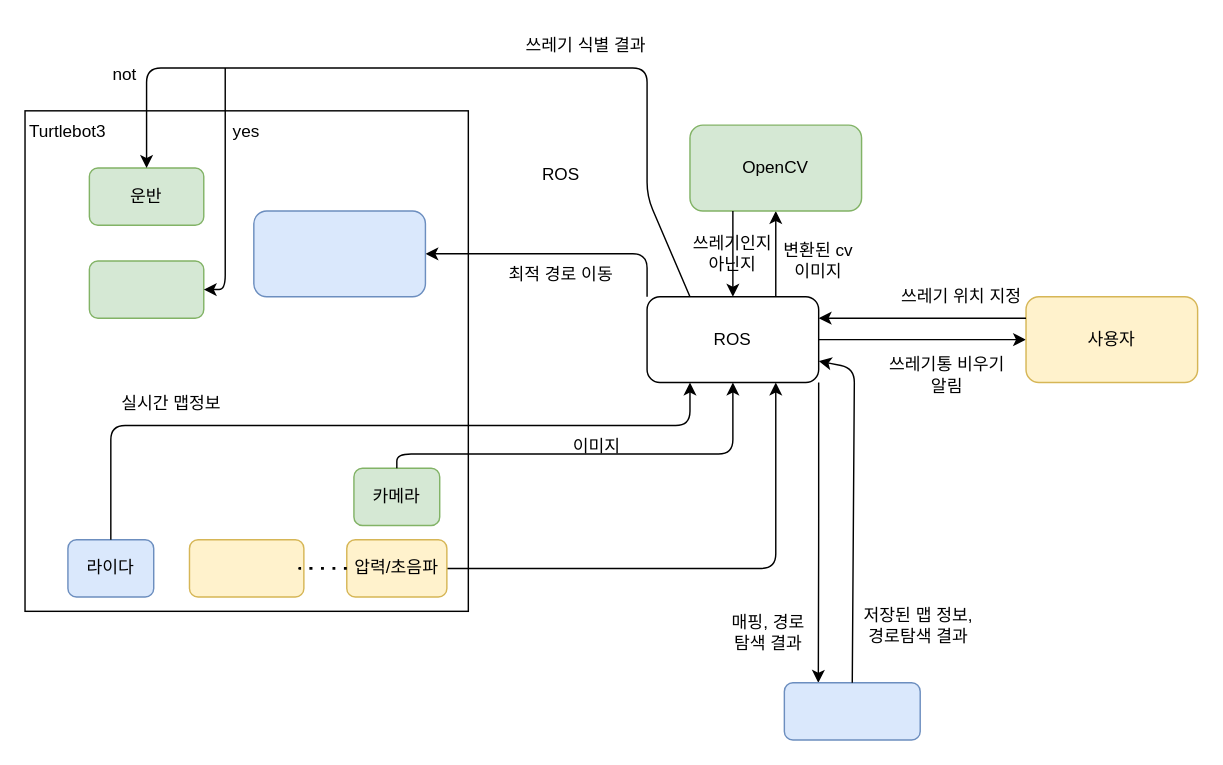
Image size: 1223x765. Some labels were removed from this diagram. Here are the shapes that lost their labels. From the top down, the box of each, then its label:
(252, 209, 425, 297): Move
(88, 260, 204, 318): 집게
(188, 538, 304, 597): 쓰레기통
(783, 681, 920, 740): 맵정보
